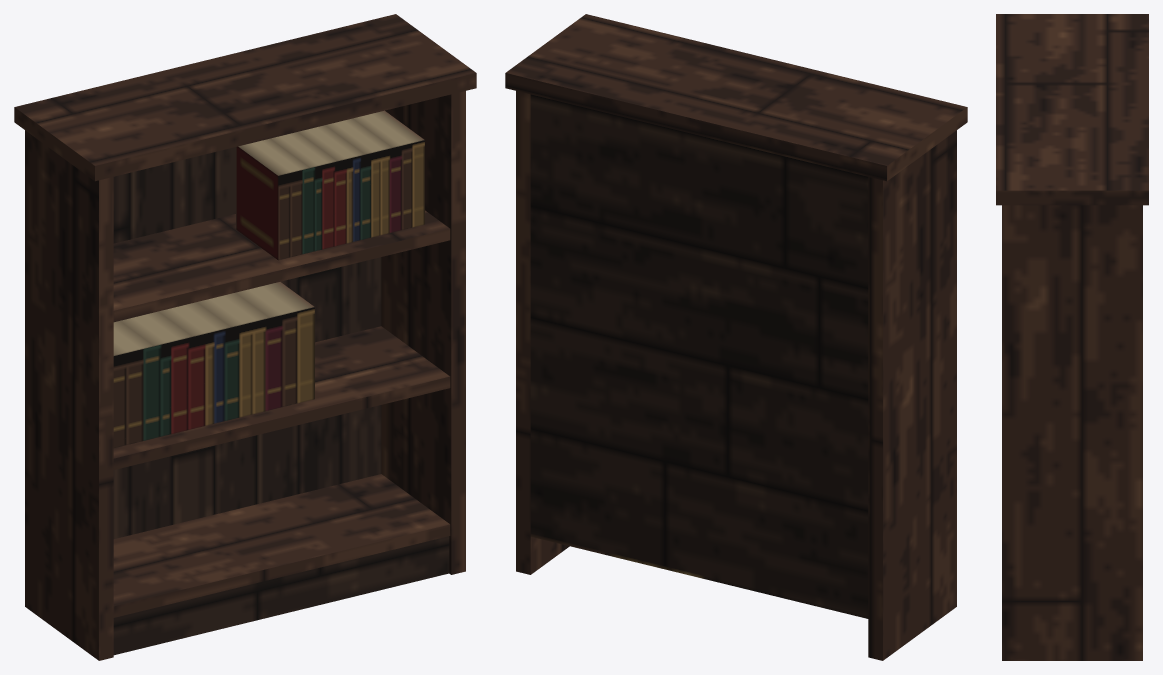
Rendered from Furn_Shelf_3Tier.fbx.
3 views of the same model, side by side, from view 1: azimuth 30°, elevation 25°; view 2: azimuth 150°, elevation 25°; view 3: azimuth 270°, elevation 25° (orthographic). The views are drawn at different scales.
Parts seen in each view (by area): view 1: Furn_Shelf_3Tier, Furn_Shelf_3Tier_Books; view 2: Furn_Shelf_3Tier; view 3: Furn_Shelf_3Tier.
Boxes of the visible parts, x1,y1,x2,y2 form: Furn_Shelf_3Tier: (14,14,476,660); Furn_Shelf_3Tier_Books: (113,110,424,447); Furn_Shelf_3Tier: (505,14,967,660); Furn_Shelf_3Tier: (996,14,1148,660).
Size of the model in its own units: 1.04 by 1.3 by 0.38.
